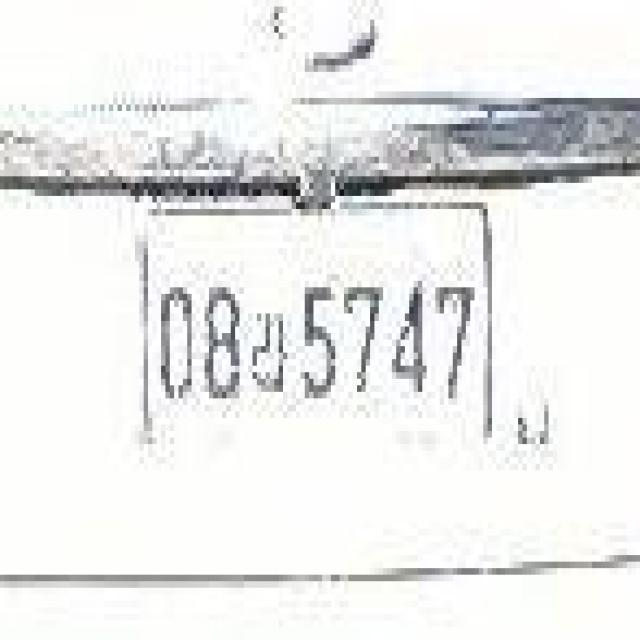illegal_plate: (135, 194, 510, 452)
